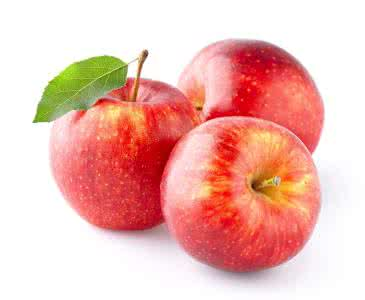apple: (39, 59, 191, 234), (170, 118, 324, 271), (178, 42, 333, 151)
